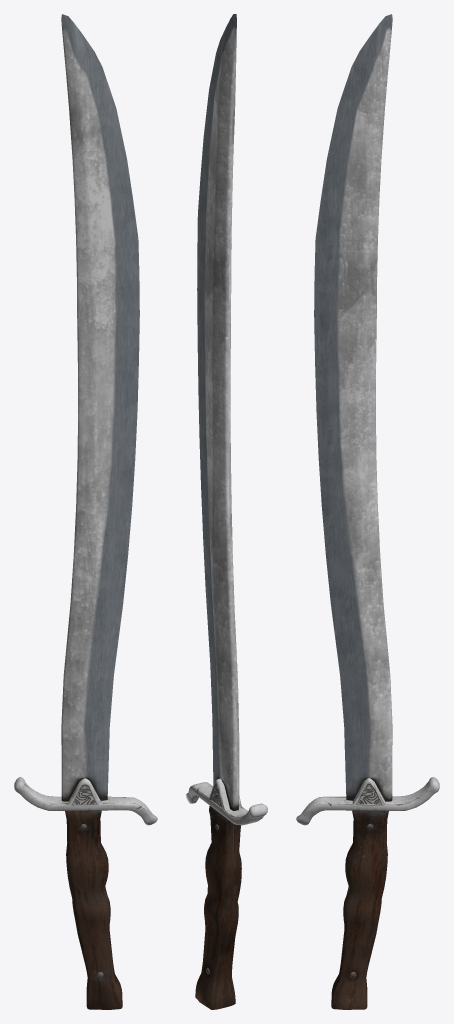
File: wooden_handle_saber_2k.gltf
The picture shows the model from 3 angles, left to right: view 1: azimuth 90°, elevation 25°; view 2: azimuth 210°, elevation 25°; view 3: azimuth 270°, elevation 25°; orthographic projection.
Visible parts, largest first — view 1: wooden_handle_saber; view 2: wooden_handle_saber; view 3: wooden_handle_saber.
Boxes of the visible parts, x1,y1,x2,y2 form: wooden_handle_saber: (14,14,157,1009); wooden_handle_saber: (186,14,267,1009); wooden_handle_saber: (296,14,439,1009).
Bounding box in the file's own units: 0.0257 × 0.9355 × 0.1228.
Materials: 1 (1 with a texture image).
